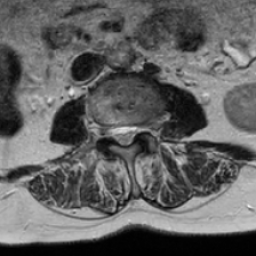CCS_normal: (119, 115, 128, 154)
LFS_stenosis: (137, 113, 147, 144)
LLS_normal: (128, 113, 137, 149)
RFS_normal: (98, 112, 109, 146)
RLS_normal: (109, 115, 119, 150)
